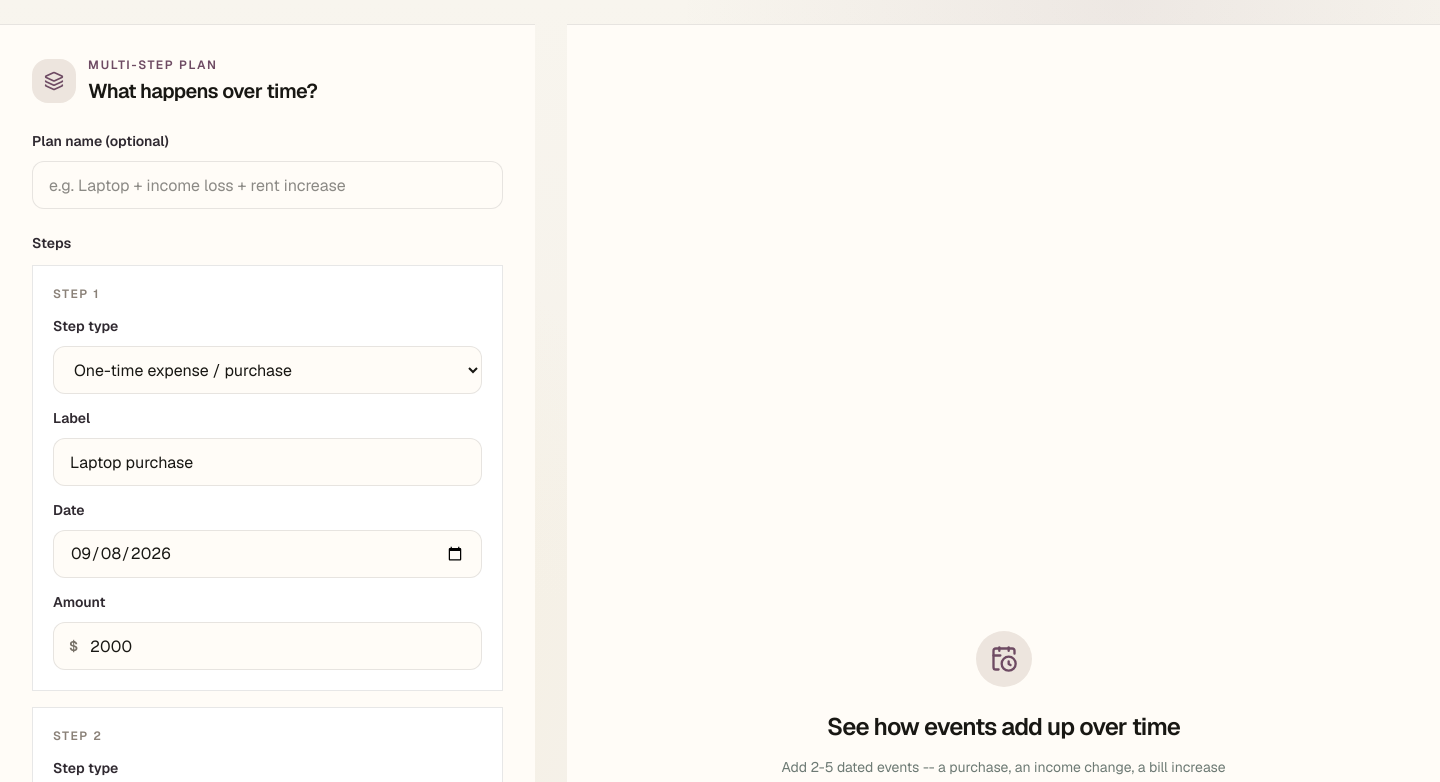
Scenario: MultiStepScenarioPlanner › rejects submission when a step is missing an amount
Replace the text in the number field labelled "Amount $" with "0" at (268, 646), box x1=53 y1=622 x2=482 y2=670
(page scrolled)
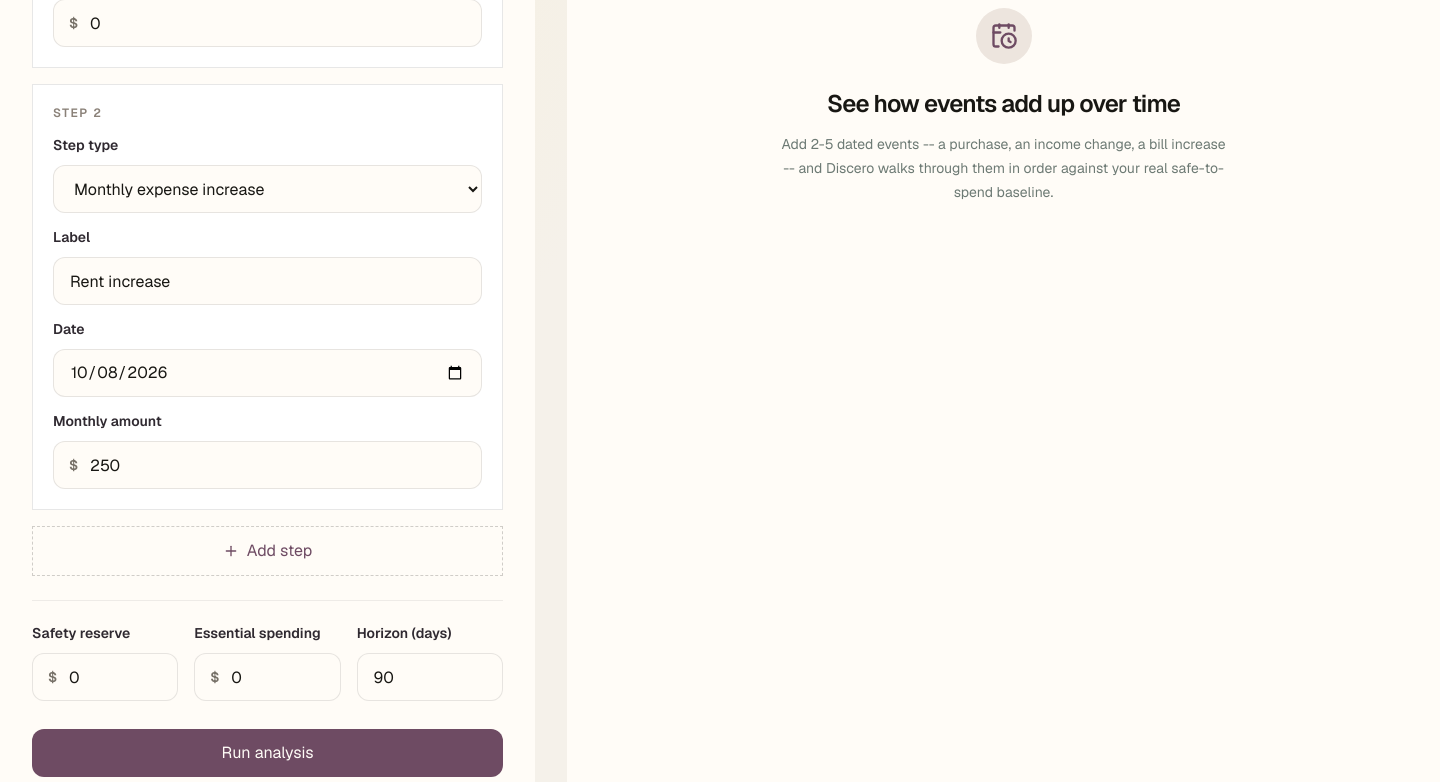
Click the button "Run analysis" at (268, 753), box x1=32 y1=729 x2=503 y2=777
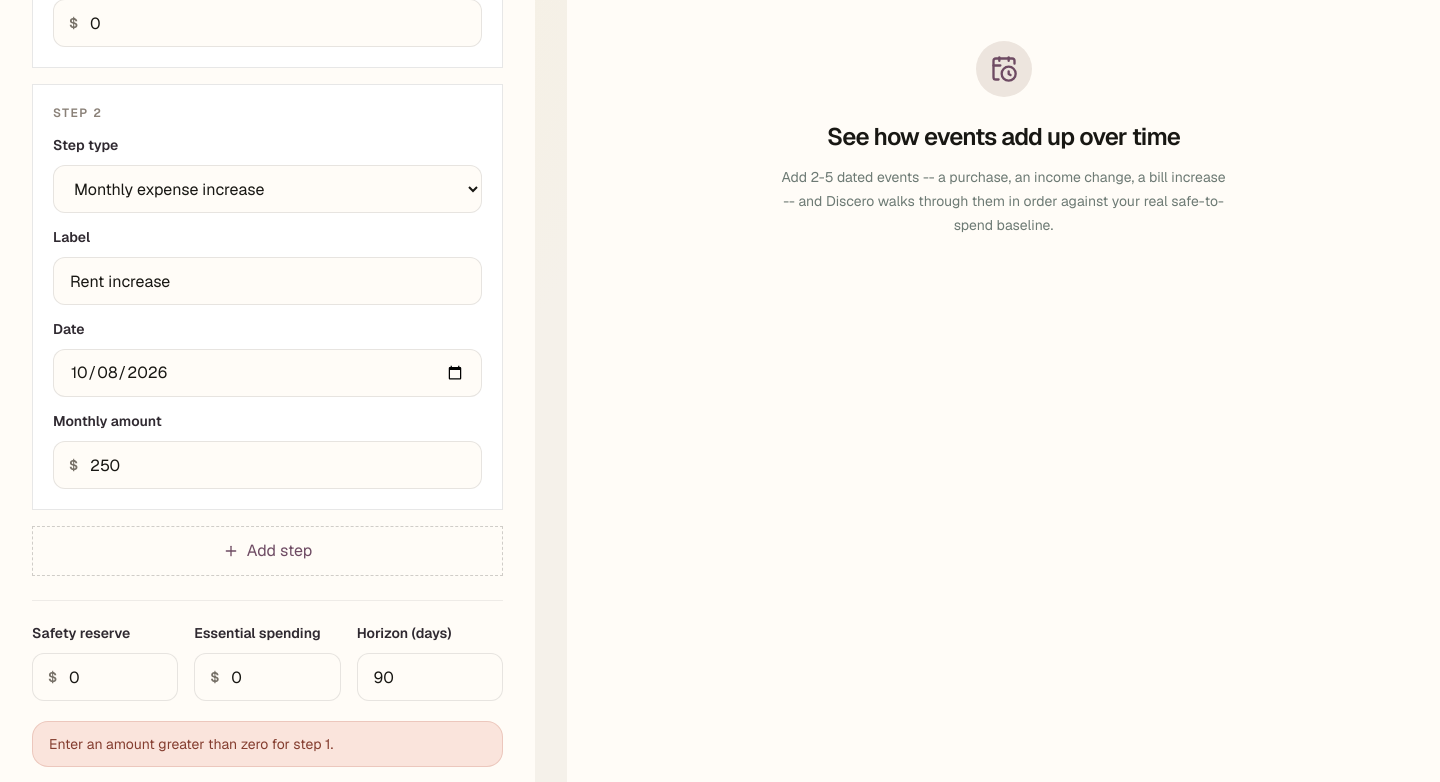
Expected: the text "Enter an amount greater than zero for step 1." is shown, x1=32 y1=721 x2=503 y2=767
